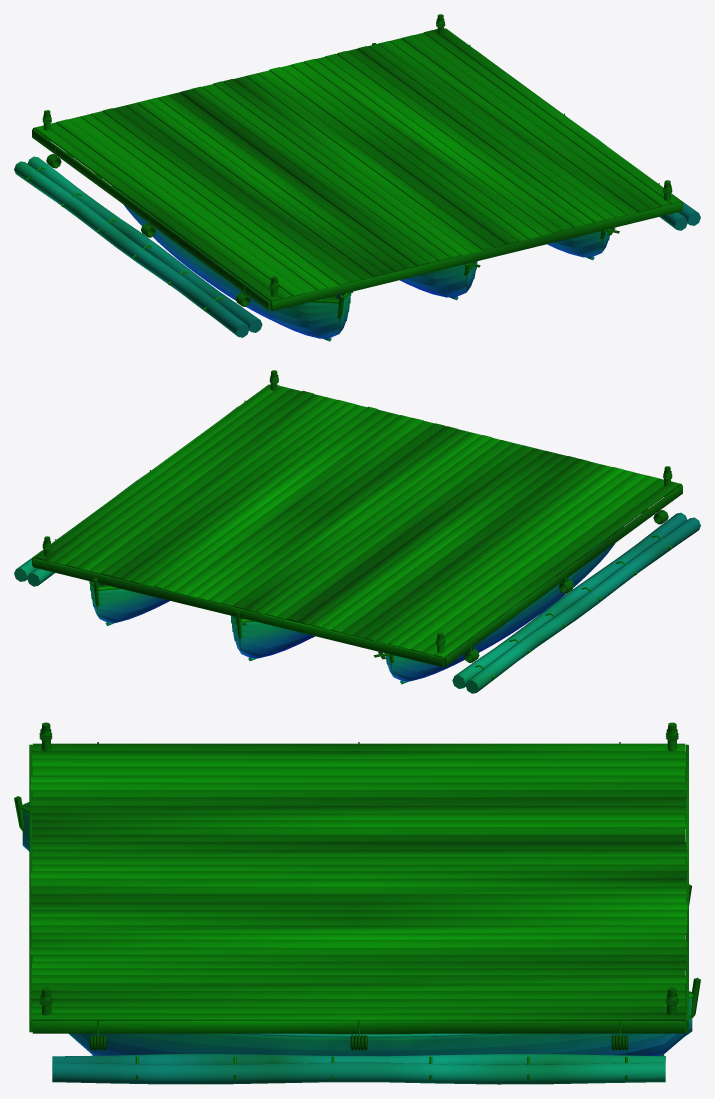
File: raft_deck_square.glb
The picture shows the model from 3 angles, top to bottom: view 1: azimuth 30°, elevation 25°; view 2: azimuth 150°, elevation 25°; view 3: azimuth 270°, elevation 25°; orthographic projection. The views are drawn at different scales.
Visible parts, largest first — view 1: raft_deck_square; view 2: raft_deck_square; view 3: raft_deck_square.
Part boxes in pixels (bbox=[...]): raft_deck_square: bbox=[14, 14, 700, 341]; raft_deck_square: bbox=[14, 370, 700, 693]; raft_deck_square: bbox=[14, 722, 700, 1084].
Size of what is drawn, in the model's own units: 11.45 by 2.17 by 10.53.
